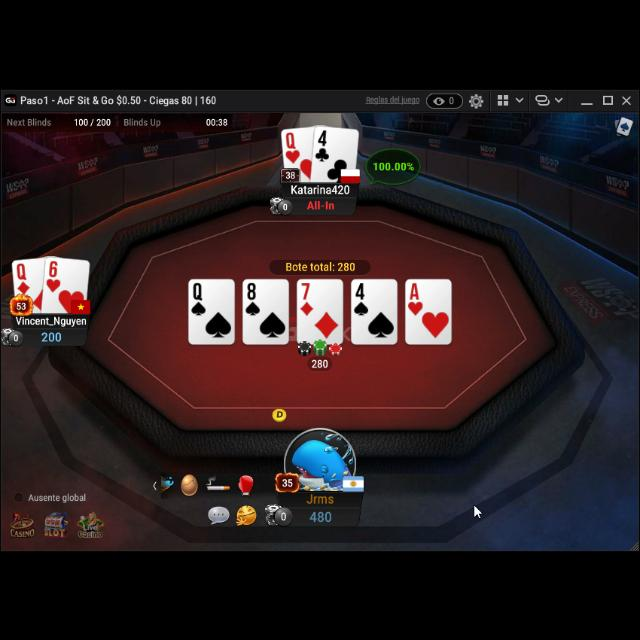4c: (313, 126, 331, 162)
4s: (352, 279, 370, 315)
6h: (46, 256, 62, 292)
7d: (298, 279, 316, 315)
8s: (245, 279, 261, 315)
Ah: (406, 280, 424, 314)
Qd: (14, 259, 32, 295), (14, 260, 32, 294)
Qh: (284, 128, 302, 164)
Qs: (190, 278, 207, 316)
all_in_symbol: (306, 197, 336, 211)
bet_text: (310, 354, 330, 368)
dealer: (270, 404, 288, 421)
pot_text: (284, 260, 356, 270)
stack_text: (309, 508, 333, 522), (41, 327, 64, 341)
